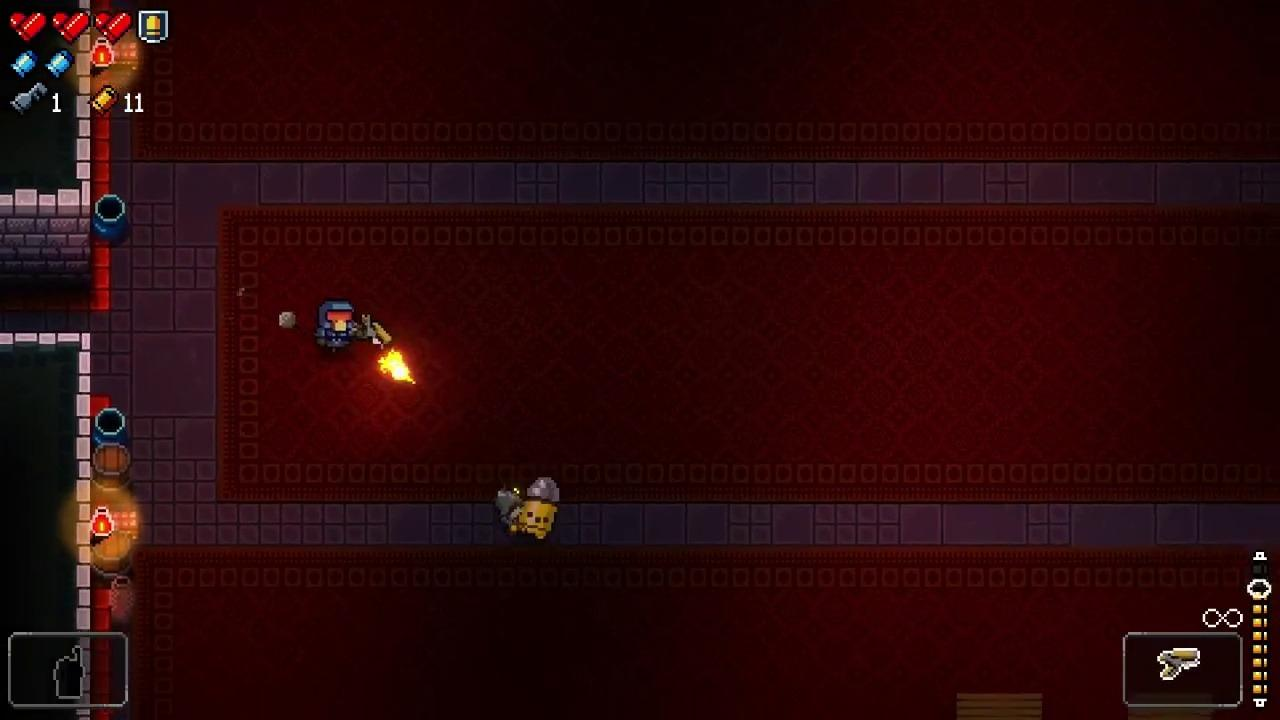bullet_kin: (519, 478, 560, 541)
player: (319, 300, 353, 352)
